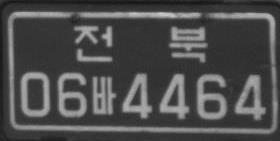0: (19, 70, 51, 117)
4: (234, 74, 266, 120), (159, 73, 190, 119), (122, 72, 152, 118)
6: (195, 73, 228, 120), (57, 72, 87, 118)
바: (91, 76, 117, 115)
전북_D: (73, 25, 208, 62)
